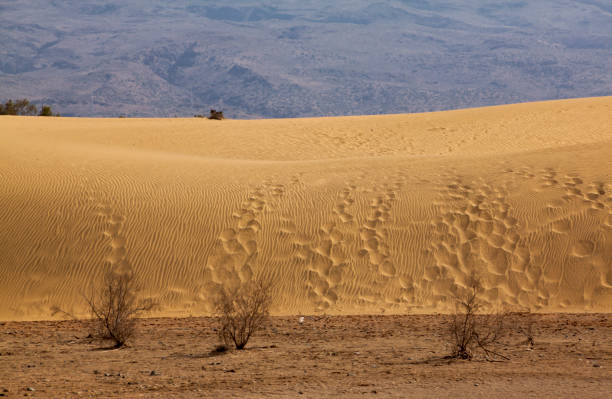human_footprint: (428, 171, 597, 312), (197, 179, 305, 306), (280, 171, 357, 311), (362, 165, 420, 295)
